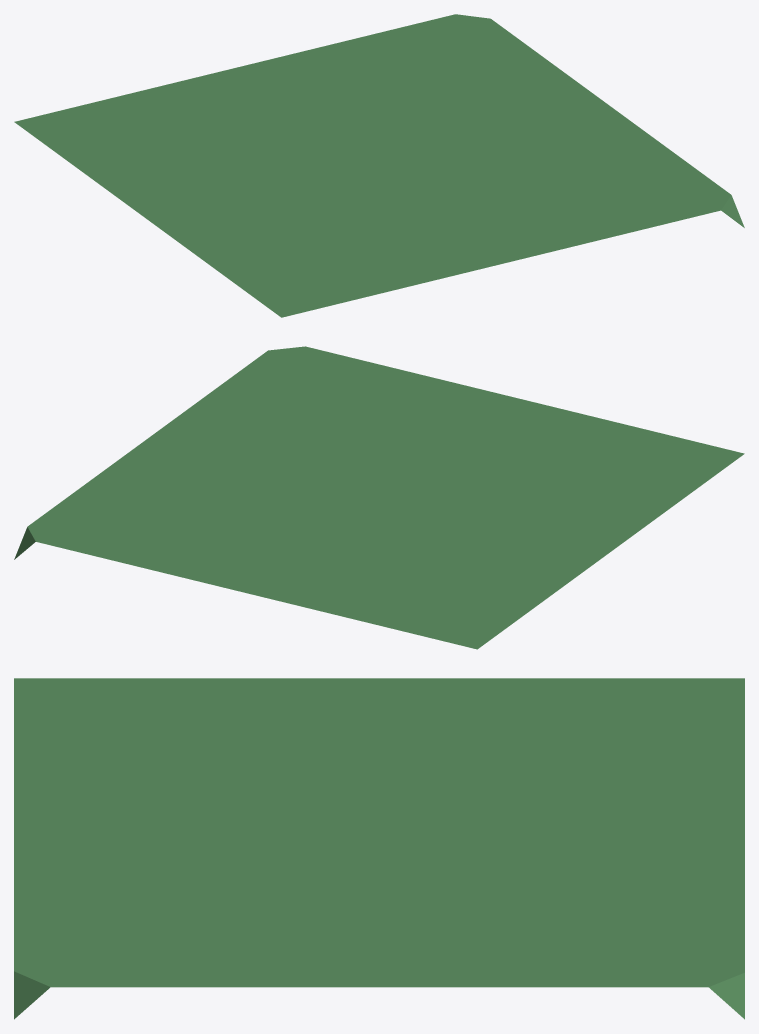
File: Grass_Interior_Corner_2.fbx
3 views of the same model, one above another, from view 1: azimuth 30°, elevation 25°; view 2: azimuth 150°, elevation 25°; view 3: azimuth 270°, elevation 25° (orthographic). The views are drawn at different scales.
Visible parts, largest first — view 1: Grass_2_Interior_Corner; view 2: Grass_2_Interior_Corner; view 3: Grass_2_Interior_Corner.
Boxes of the visible parts, x1,y1,x2,y2 form: Grass_2_Interior_Corner: [14, 14, 744, 317]; Grass_2_Interior_Corner: [14, 346, 744, 649]; Grass_2_Interior_Corner: [14, 678, 744, 1019].
Bounding box in the file's own units: 100 × 4.91 × 100.
